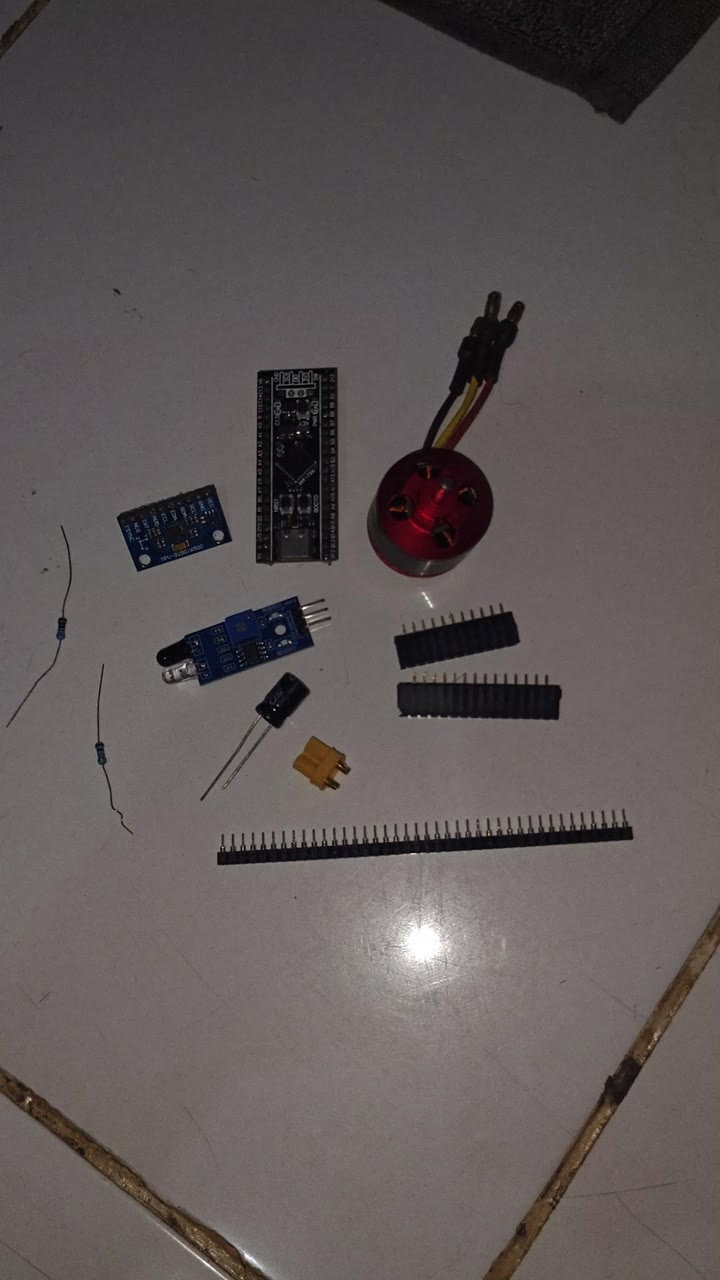bldc_motor: (378, 290, 527, 589)
elco_capacitor: (254, 671, 312, 730)
ir_sensor: (176, 592, 318, 686)
mpu6500: (111, 481, 236, 574)
pin_header: (210, 812, 648, 865), (406, 594, 524, 669), (409, 671, 568, 720)
resistor: (21, 506, 107, 730), (87, 651, 142, 845)
stm32f4: (251, 360, 340, 575)
xt30_female: (290, 733, 353, 793)
